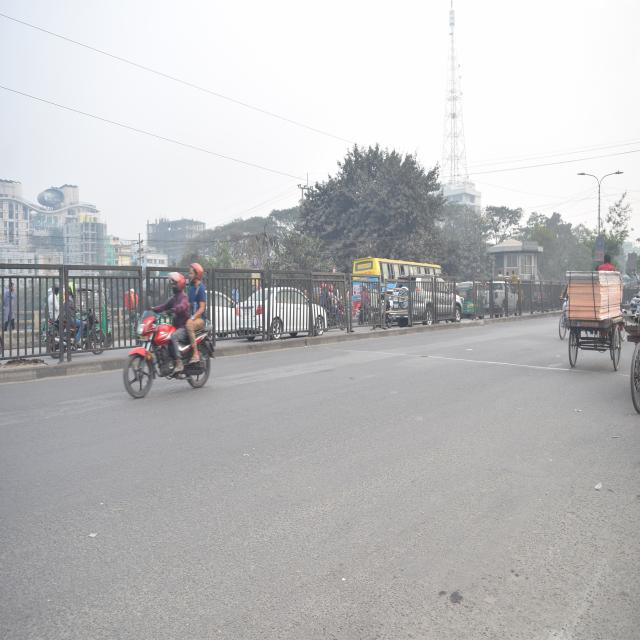bus: (349, 255, 446, 283)
car: (235, 289, 328, 344), (206, 284, 237, 330)
microbus: (392, 274, 460, 326)
motorbike: (121, 308, 211, 404), (42, 308, 110, 371), (330, 296, 348, 331), (356, 298, 373, 326)
